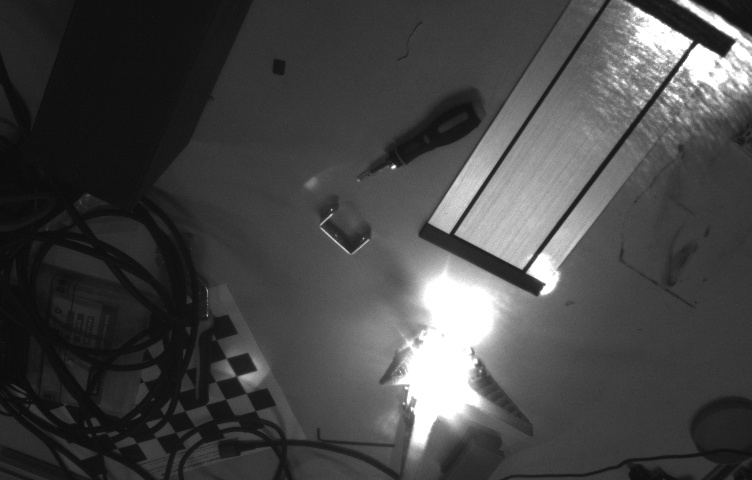Object retractable gel pen - Material metal - Pdfname asdasdaswe: (383, 326, 489, 417)
